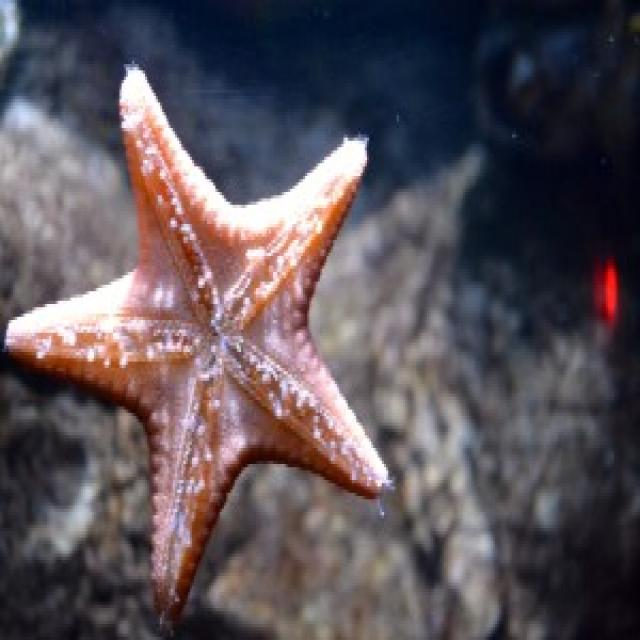Starfish: (2, 24, 405, 620)
